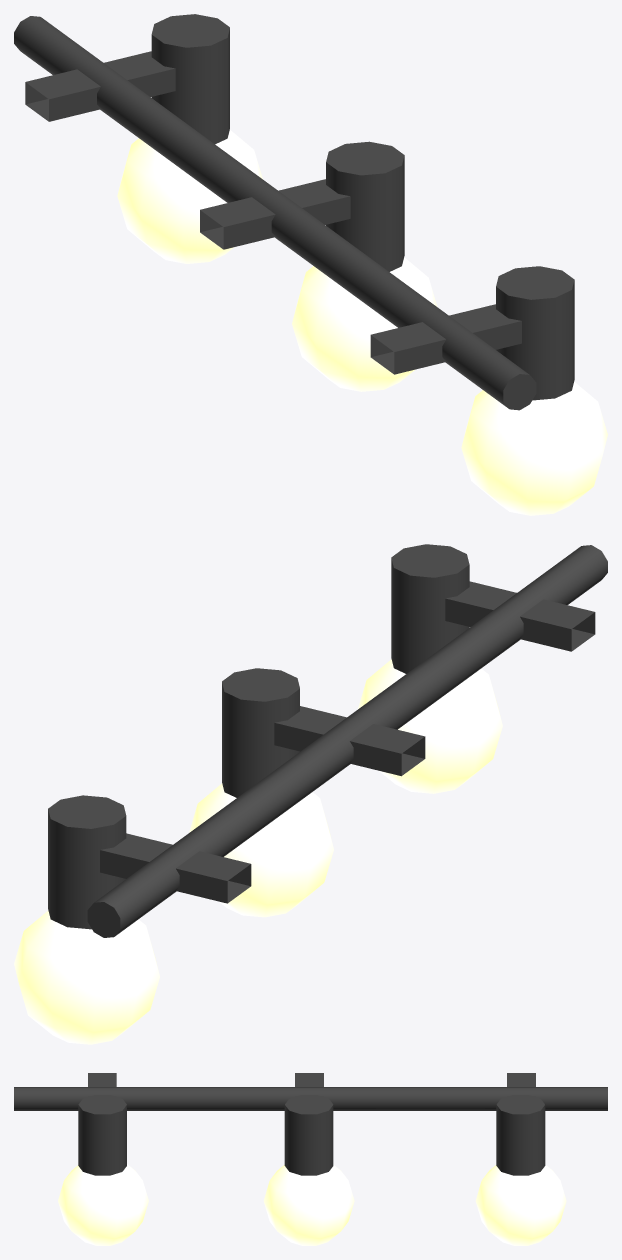
Rendered from S_LightsBathroom.001.fbx.
3 views of the same model, one above another, from view 1: azimuth 30°, elevation 25°; view 2: azimuth 150°, elevation 25°; view 3: azimuth 270°, elevation 25° (orthographic). The views are drawn at different scales.
Parts seen in each view (by area): view 1: S_LightsBathroom.001; view 2: S_LightsBathroom.001; view 3: S_LightsBathroom.001.
Boxes of the visible parts, left/top/right/bottom form: S_LightsBathroom.001: left=14, top=14, right=607, bottom=515; S_LightsBathroom.001: left=14, top=544, right=607, bottom=1044; S_LightsBathroom.001: left=14, top=1073, right=607, bottom=1245.
Bounding box in the file's own units: 25.34 × 25.53 × 99.9.
